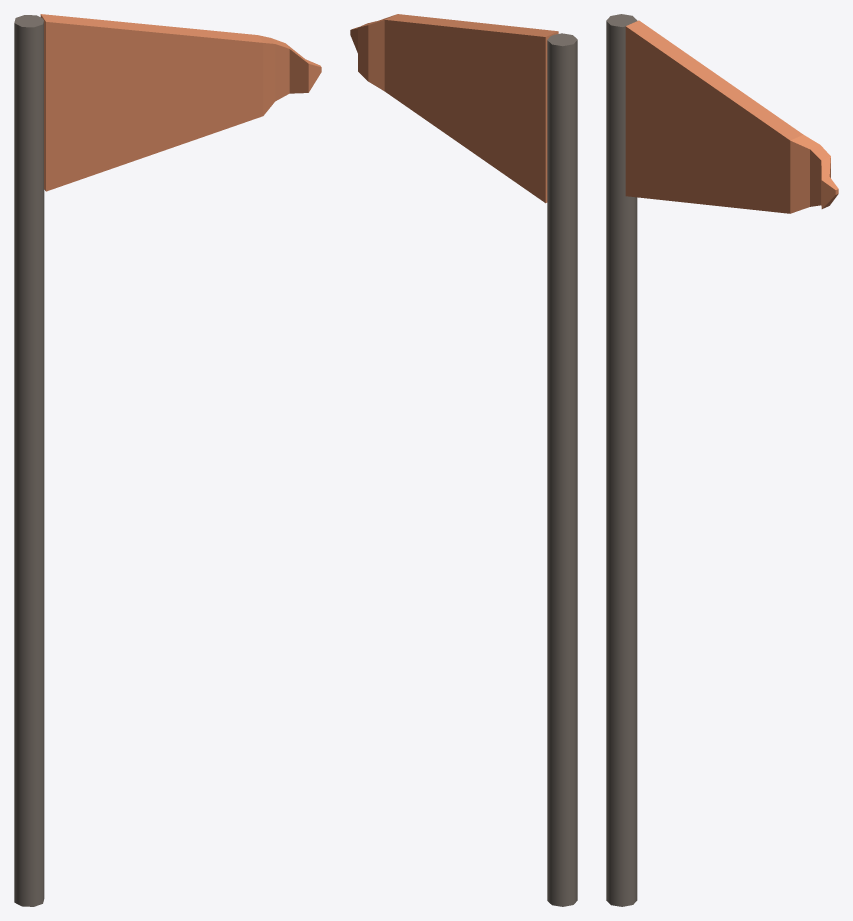
Rendered from flag2.fbx.
3 views of the same model, side by side, from view 1: azimuth 30°, elevation 25°; view 2: azimuth 150°, elevation 25°; view 3: azimuth 330°, elevation 25° (orthographic). The views are drawn at different scales.
Parts seen in each view (by area): view 1: polySurface68; view 2: polySurface68; view 3: polySurface68.
Part boxes in pixels (<box>): polySurface68: <box>14,14,321,906</box>; polySurface68: <box>350,14,577,906</box>; polySurface68: <box>606,14,838,906</box>.
Size of the model in its own units: 0.387 by 1.22 by 0.1188.
